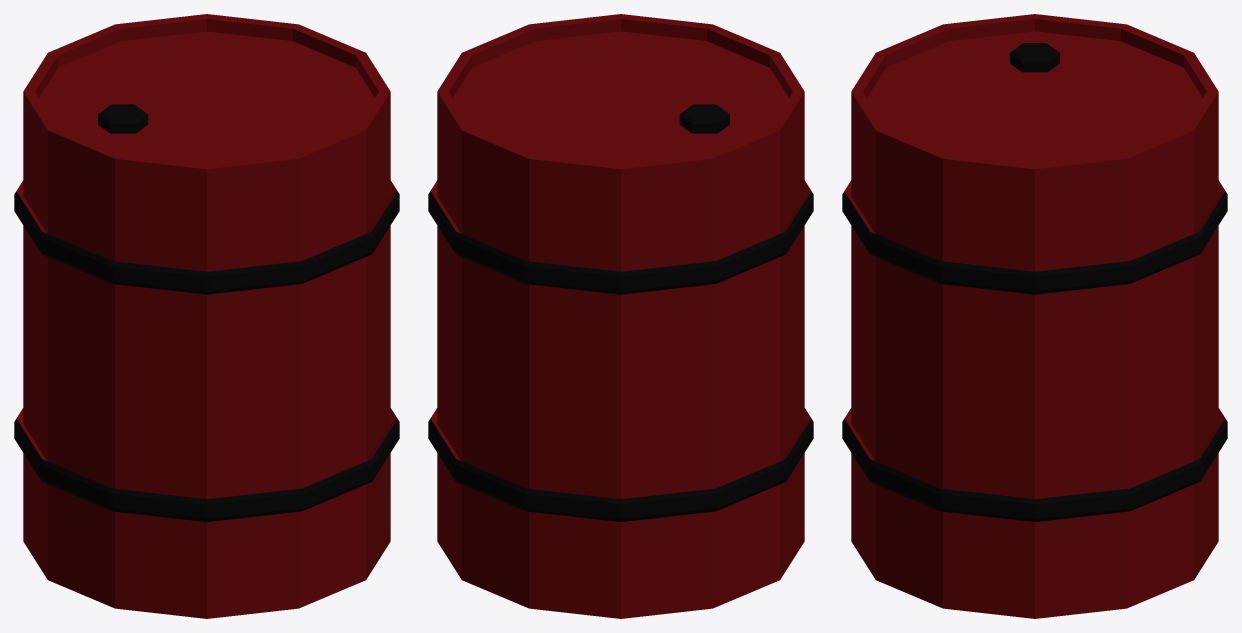
The model's file is LowPolyBarrel.fbx.
3 views of the same model, side by side, from view 1: azimuth 30°, elevation 25°; view 2: azimuth 150°, elevation 25°; view 3: azimuth 270°, elevation 25° (orthographic).
Parts seen in each view (by area): view 1: Cylinder; view 2: Cylinder; view 3: Cylinder.
Boxes of the visible parts, box(x1,y1,x2,y2) form: Cylinder: box(14, 14, 399, 618); Cylinder: box(428, 14, 813, 618); Cylinder: box(842, 14, 1227, 618).
Size of the model in its own units: 210 by 270 by 210.
